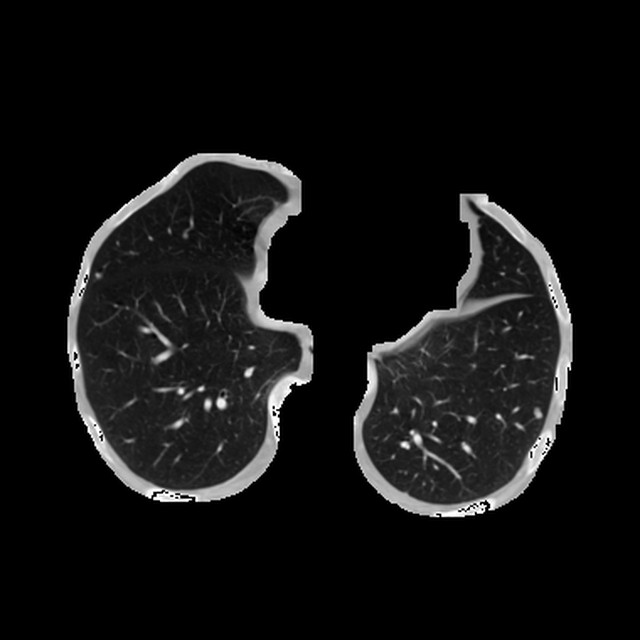PN: (532, 408, 542, 418)
